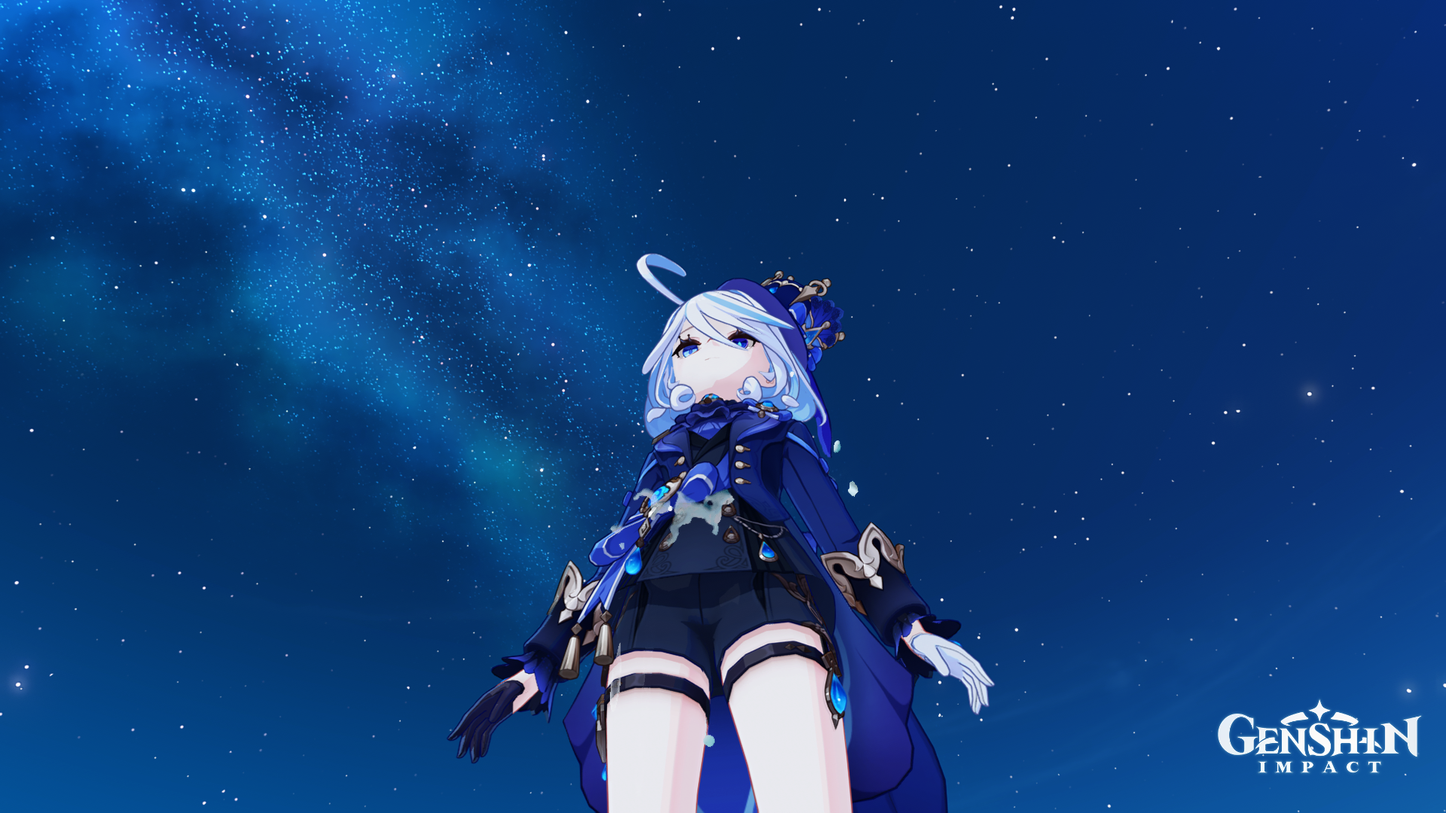Human: (448, 250, 997, 813)
